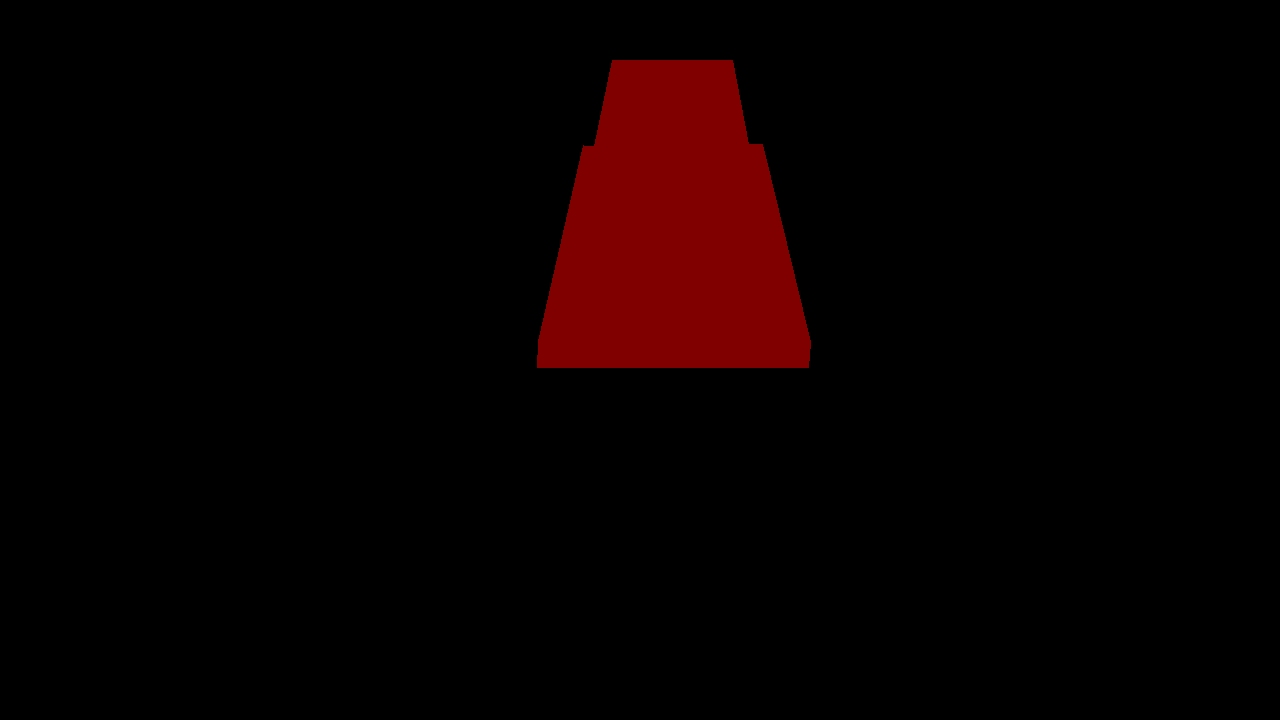stair: (537, 60, 810, 367)
